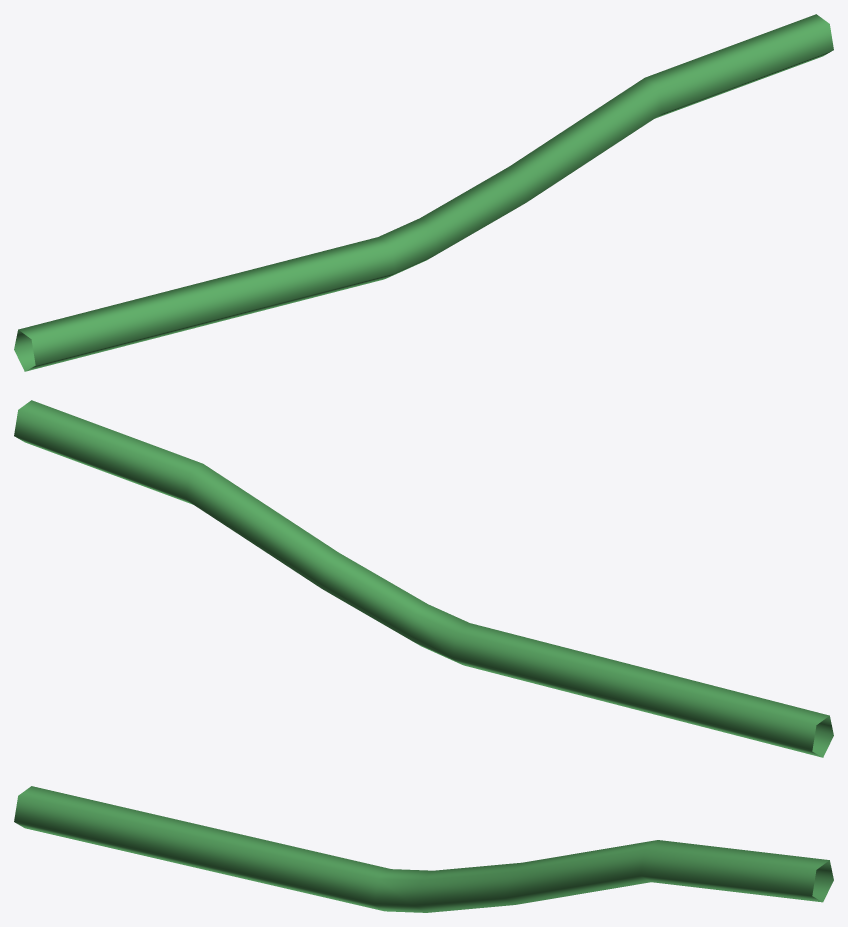
The model's file is SPipeD_1.fbx.
3 views of the same model, one above another, from view 1: azimuth 30°, elevation 25°; view 2: azimuth 150°, elevation 25°; view 3: azimuth 330°, elevation 25° (orthographic).
Visible parts, largest first — view 1: SPipeD_1; view 2: SPipeD_1; view 3: SPipeD_1.
Boxes of the visible parts, left/top/right/bottom form: SPipeD_1: left=14, top=14, right=833, bottom=371; SPipeD_1: left=14, top=400, right=833, bottom=757; SPipeD_1: left=14, top=786, right=833, bottom=912.
Size of the model in its own units: 220 by 41.62 by 10.35.
